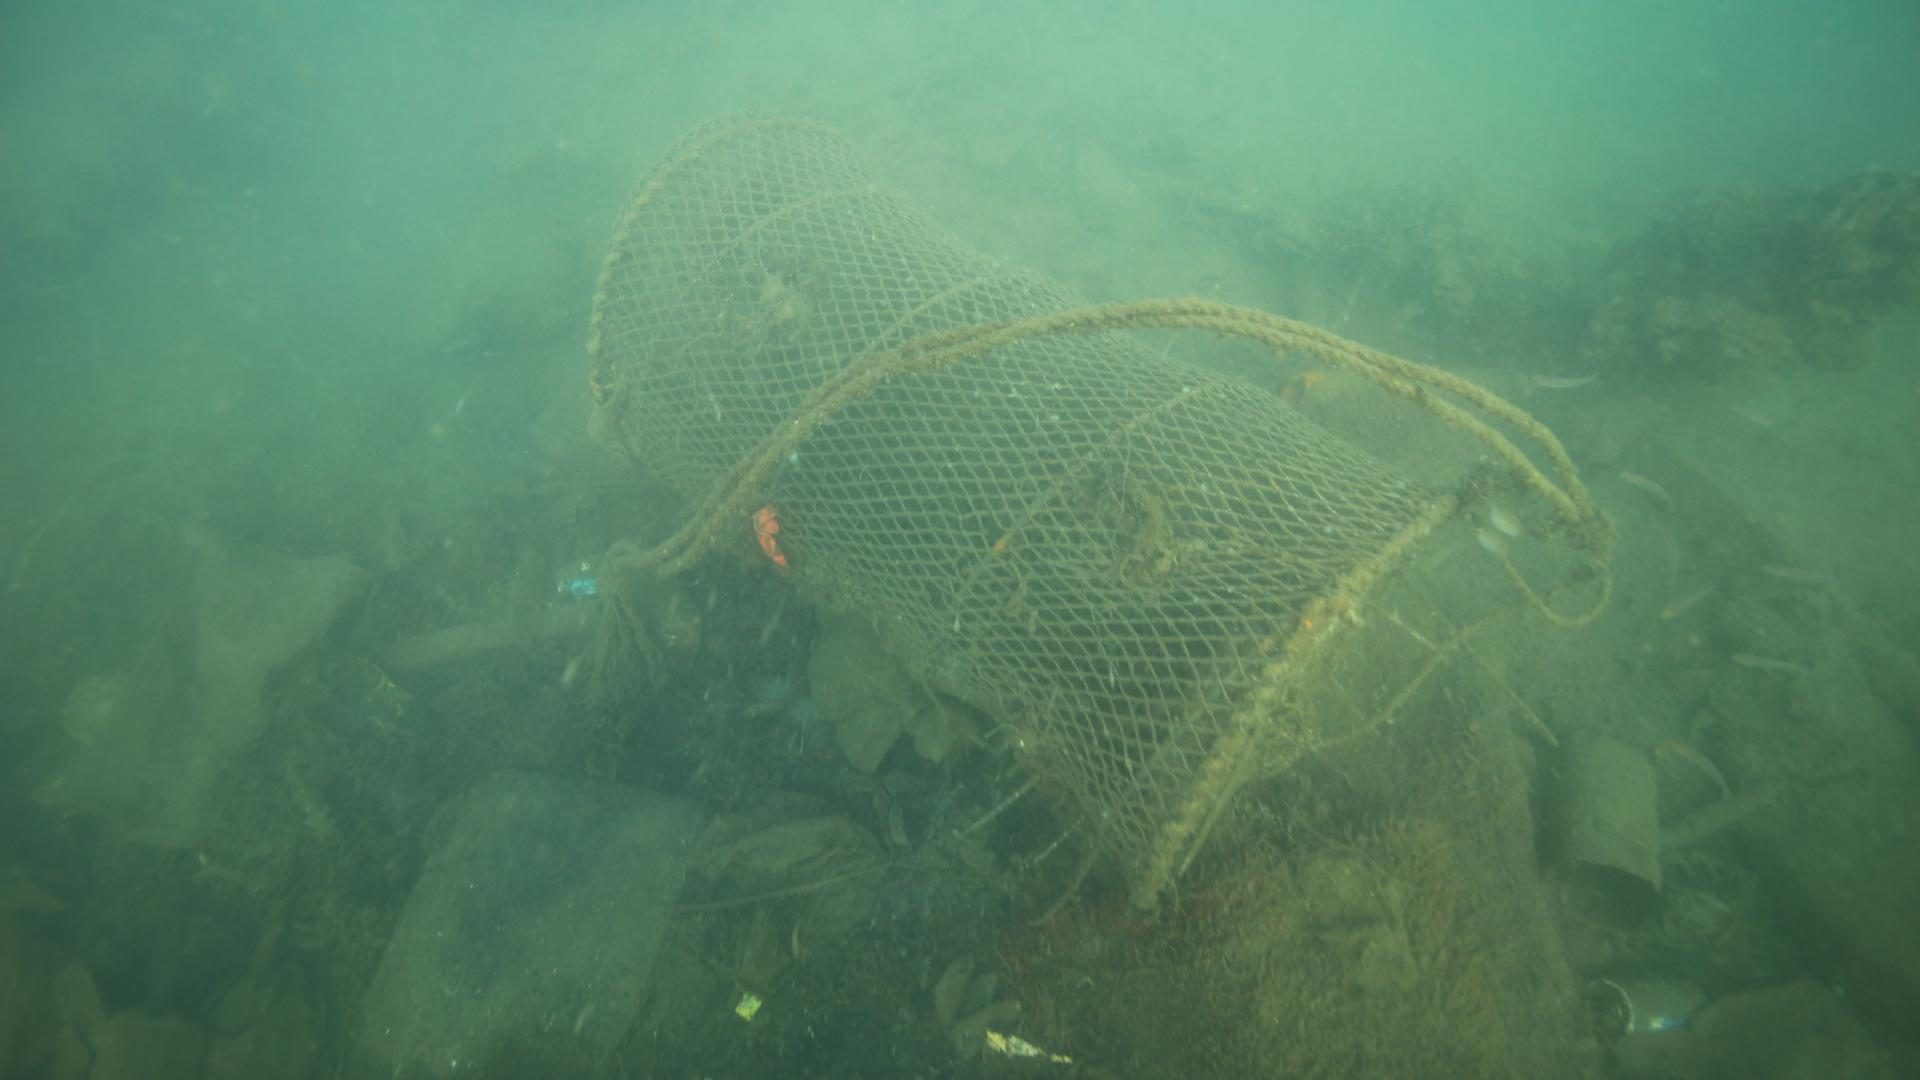bundle of ropes: (591, 291, 1604, 593)
spring fish trap: (582, 105, 1451, 906)
